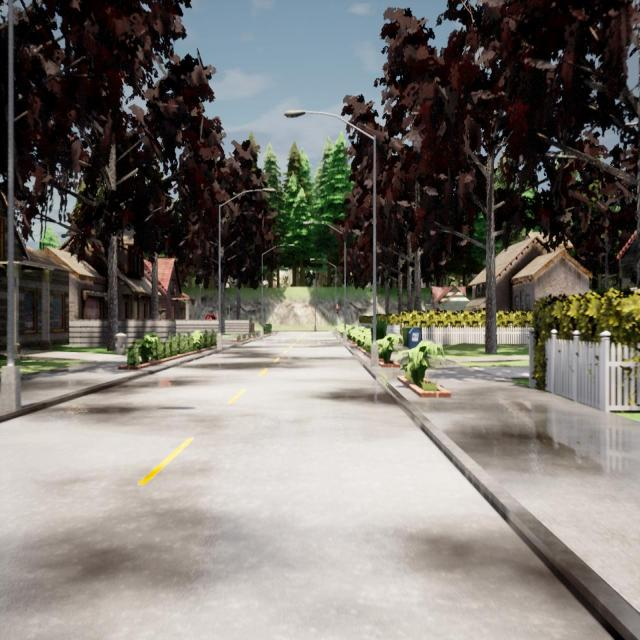traffic_light: (336, 304, 339, 314)
